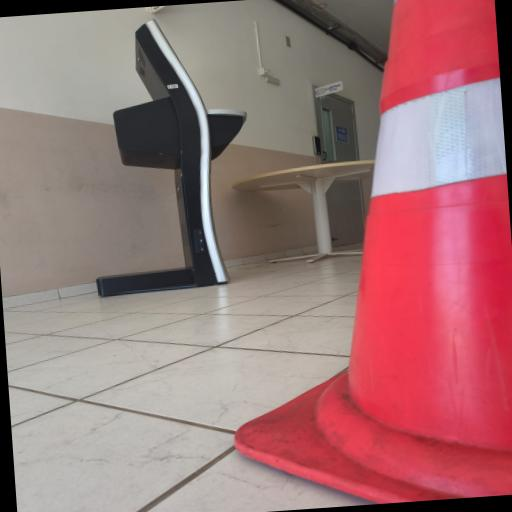cone: (320, 0, 512, 436)
